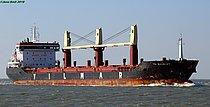Ship: (8, 19, 201, 91)
